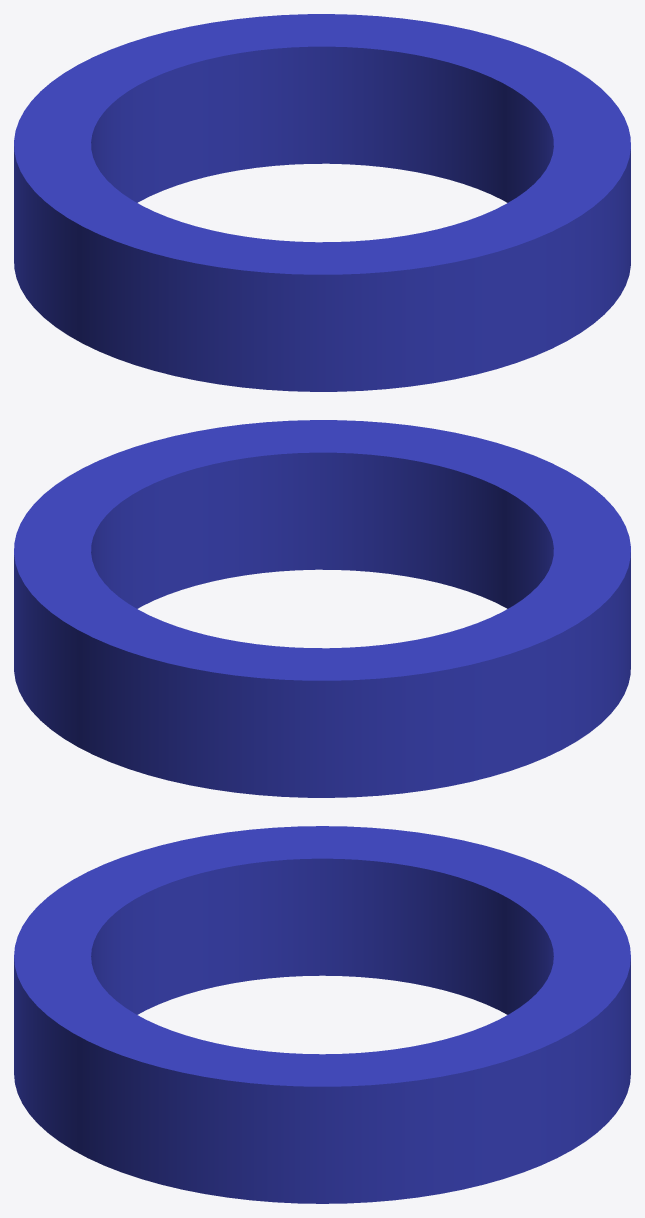
Rendered from ring.fbx.
3 renders of one model, top to bottom at view 1: azimuth 30°, elevation 25°; view 2: azimuth 150°, elevation 25°; view 3: azimuth 270°, elevation 25°, orthographic.
Visible parts, largest first — view 1: root; view 2: root; view 3: root.
Part boxes in pixels (left/top/right/bottom): root: left=14, top=14, right=630, bottom=391; root: left=14, top=420, right=630, bottom=797; root: left=14, top=826, right=630, bottom=1203.
Size of the model in its own units: 0.0982 by 0.0206 by 0.0982.
